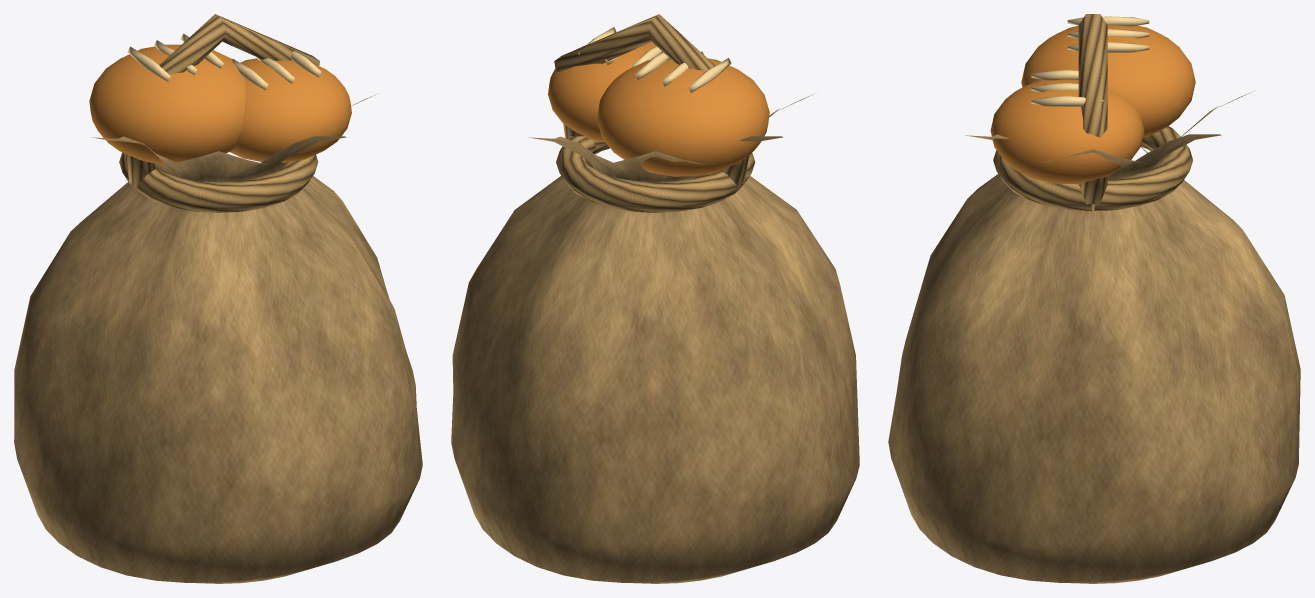
Rendered from sack-bread.glb.
3 renders of one model, left to right at view 1: azimuth 30°, elevation 25°; view 2: azimuth 150°, elevation 25°; view 3: azimuth 270°, elevation 25°, orthographic.
Visible parts, largest first — view 1: sack.cloth, sack.loaves, sack.rope; view 2: sack.cloth, sack.loaves, sack.rope; view 3: sack.cloth, sack.loaves, sack.rope.
Boxes of the visible parts, x1=… form: sack.cloth: x1=14, y1=93, x2=422, y2=583; sack.loaves: x1=89, y1=33, x2=351, y2=165; sack.rope: x1=119, y1=14, x2=319, y2=212; sack.cloth: x1=451, y1=94, x2=859, y2=583; sack.loaves: x1=548, y1=27, x2=769, y2=176; sack.rope: x1=554, y1=14, x2=754, y2=212; sack.cloth: x1=888, y1=92, x2=1300, y2=583; sack.loaves: x1=990, y1=16, x2=1195, y2=183; sack.rope: x1=993, y1=14, x2=1192, y2=211.
Size of the model in its own units: 0.96 by 1.33 by 0.9643.
3 materials, 2 textured.
